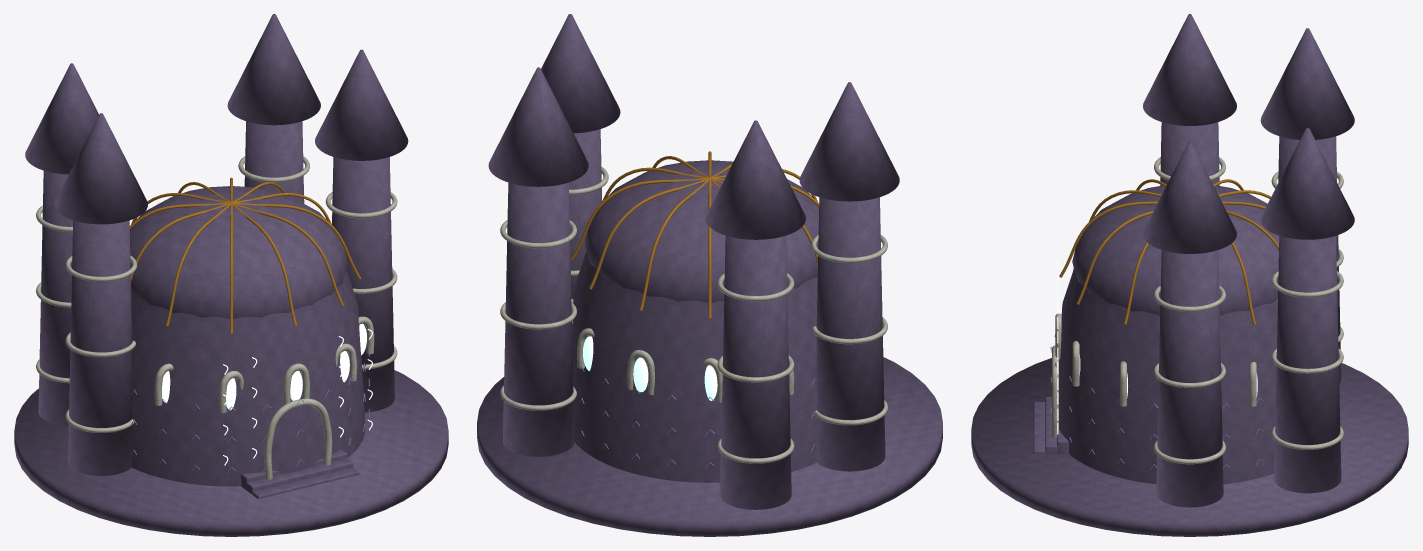
File: violet.glb
3 views of the same model, side by side, from view 1: azimuth 30°, elevation 25°; view 2: azimuth 150°, elevation 25°; view 3: azimuth 270°, elevation 25° (orthographic). The views are drawn at different scales.
Parts seen in each view (by area): view 1: violet_Hand cut stone.003, violet_Pearl limestone.003, violet_Aged gold.003, violet_Moonlight.003; view 2: violet_Hand cut stone.003, violet_Pearl limestone.003, violet_Aged gold.003, violet_Moonlight.003; view 3: violet_Hand cut stone.003, violet_Pearl limestone.003, violet_Aged gold.003.
Part boxes in pixels (x1=…): violet_Hand cut stone.003: x1=14, y1=14, x2=448, y2=536; violet_Pearl limestone.003: x1=36, y1=156, x2=397, y2=479; violet_Aged gold.003: x1=129, y1=177, x2=361, y2=333; violet_Moonlight.003: x1=162, y1=323, x2=372, y2=465; violet_Hand cut stone.003: x1=477, y1=14, x2=942, y2=536; violet_Pearl limestone.003: x1=500, y1=166, x2=887, y2=463; violet_Aged gold.003: x1=570, y1=151, x2=819, y2=318; violet_Moonlight.003: x1=572, y1=321, x2=717, y2=400; violet_Hand cut stone.003: x1=971, y1=14, x2=1408, y2=536; violet_Pearl limestone.003: x1=1052, y1=157, x2=1343, y2=464; violet_Aged gold.003: x1=1059, y1=179, x2=1278, y2=324.
Bounding box in the file's own units: 26 × 24 × 26.
Materials: 5 (4 with a texture image).
